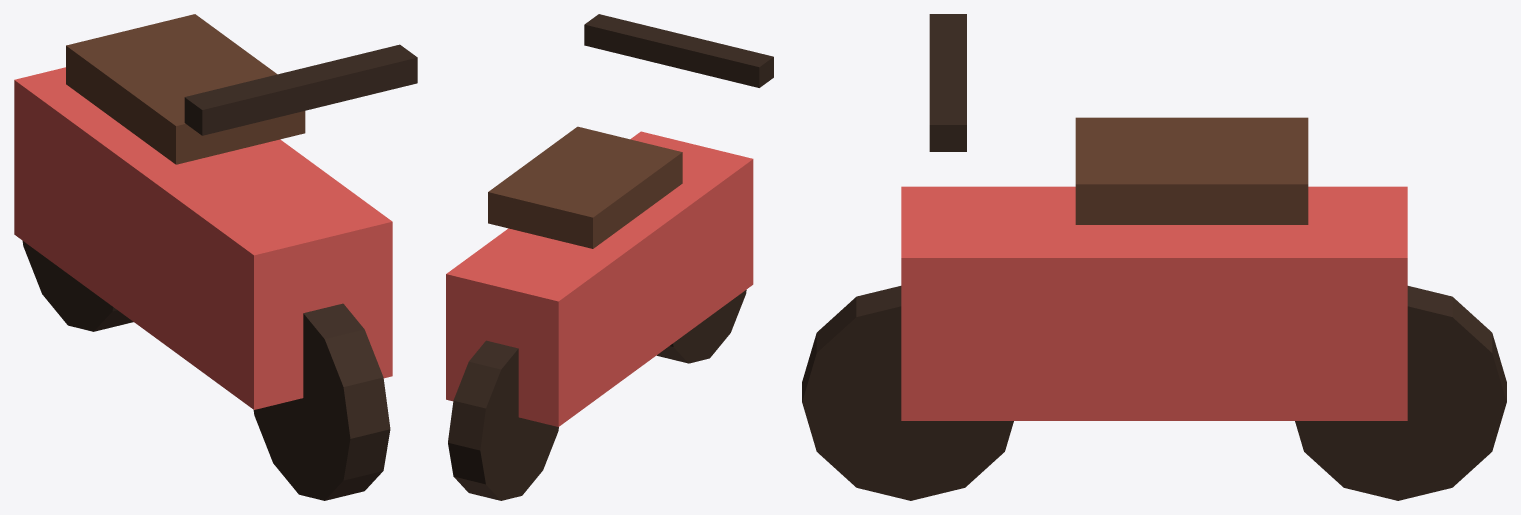
The model's file is prop_motor.fbx.
The picture shows the model from 3 angles, left to right: view 1: azimuth 30°, elevation 25°; view 2: azimuth 150°, elevation 25°; view 3: azimuth 270°, elevation 25°; orthographic projection. The views are drawn at different scales.
Parts seen in each view (by area): view 1: prop_motor; view 2: prop_motor; view 3: prop_motor.
Part boxes in pixels (box(x1,y1,x2,y2)): prop_motor: box(14, 14, 417, 500); prop_motor: box(446, 14, 773, 500); prop_motor: box(802, 14, 1506, 500).
Bounding box in the file's own units: 70 × 124 × 188.
Materials: 1 (1 with a texture image).
